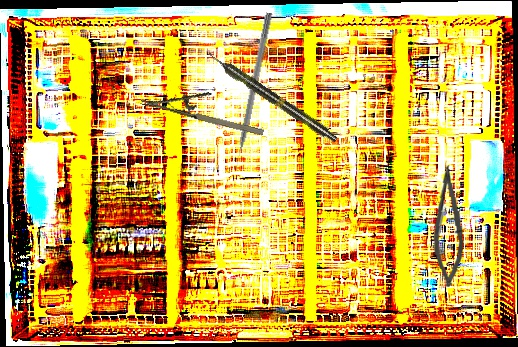Handpiece: (205, 48, 340, 146)
Micro Scissor: (428, 164, 467, 288)
Needle Holder: (140, 75, 270, 139)
Pusher: (230, 11, 273, 174)
